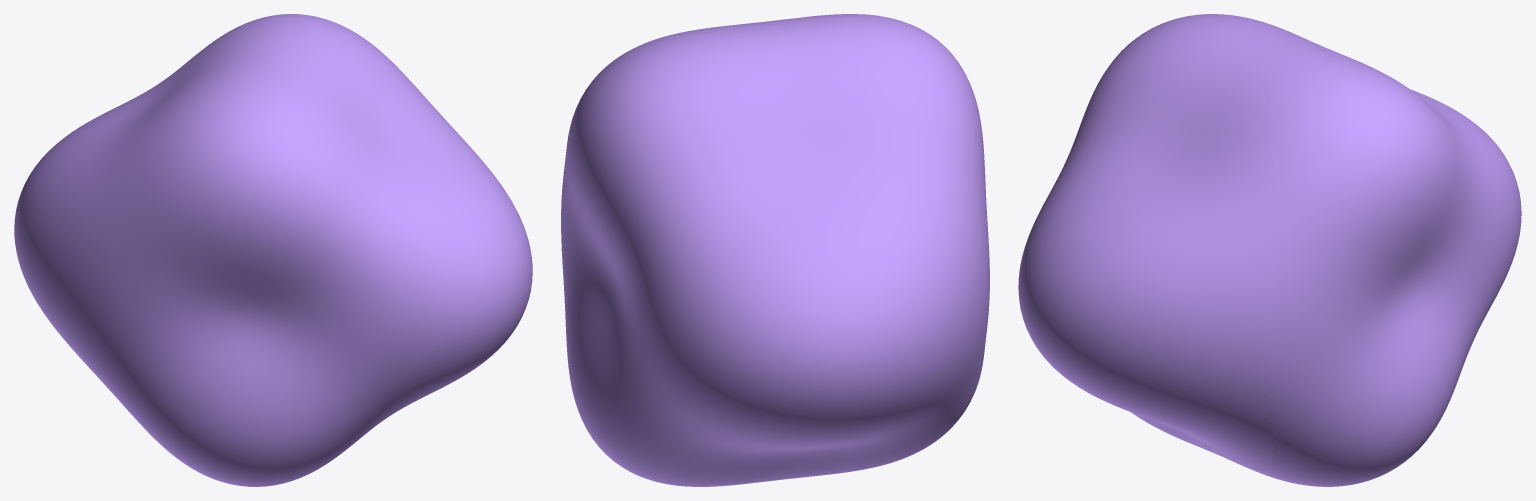
Rendered from blob.glb.
3 views of the same model, side by side, from view 1: azimuth 30°, elevation 25°; view 2: azimuth 150°, elevation 25°; view 3: azimuth 270°, elevation 25° (orthographic). The views are drawn at different scales.
Parts seen in each view (by area): view 1: blob; view 2: blob; view 3: blob.
Part boxes in pixels (x1,y1,x2,y2): blob: [14, 14, 532, 486]; blob: [561, 14, 989, 486]; blob: [1018, 14, 1521, 486].
Bounding box in the file's own units: 2.08 × 2 × 2.22.
